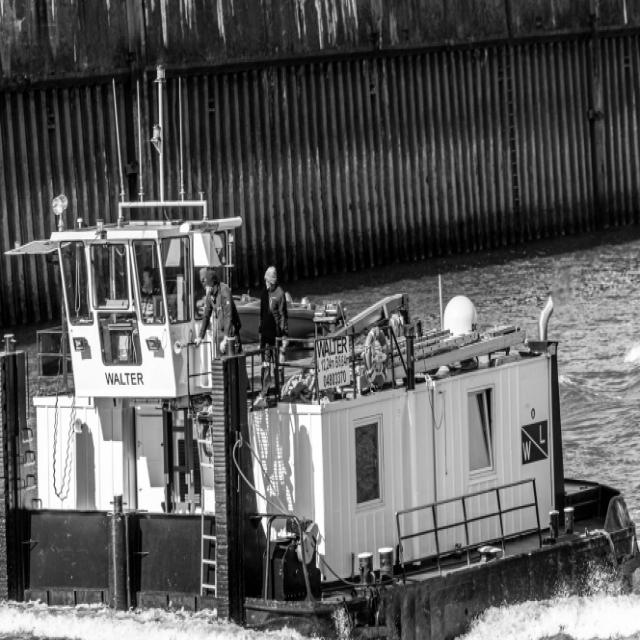tugboat: (1, 63, 640, 640)
